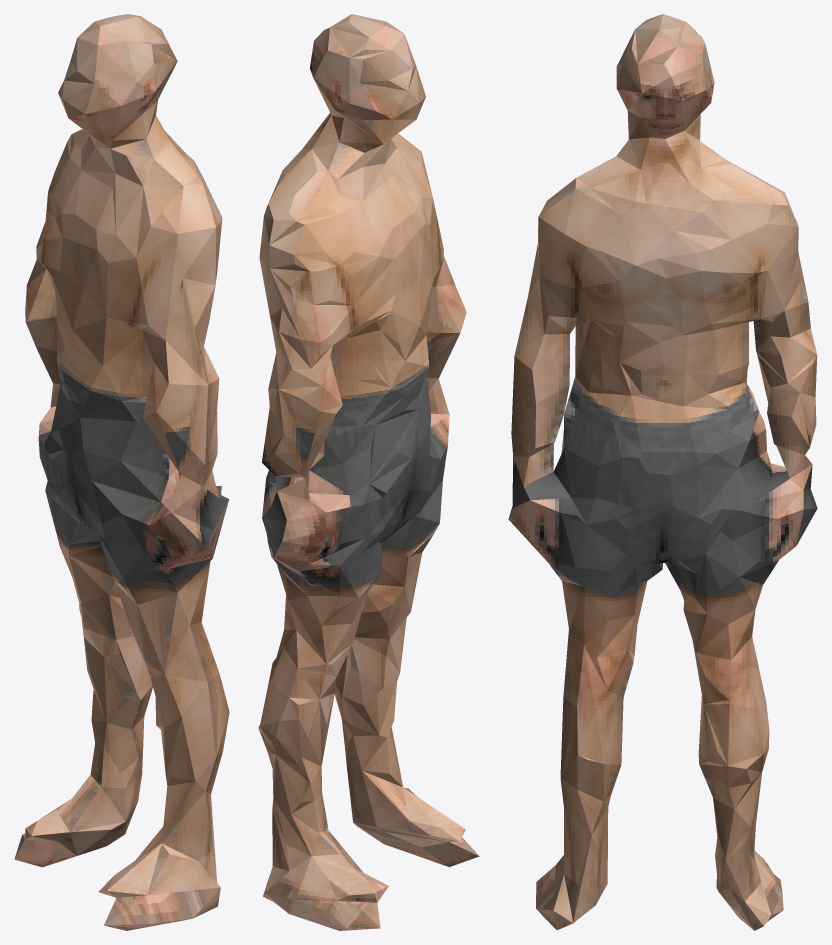
Rendered from personaje.base.cuerpo_comun_4.glb.
The picture shows the model from 3 angles, left to right: view 1: azimuth 30°, elevation 25°; view 2: azimuth 150°, elevation 25°; view 3: azimuth 270°, elevation 25°; orthographic projection. The views are drawn at different scales.
Visible parts, largest first — view 1: personaje.base.cuerpo_comun_4; view 2: personaje.base.cuerpo_comun_4; view 3: personaje.base.cuerpo_comun_4.
Boxes of the visible parts, x1=… form: personaje.base.cuerpo_comun_4: x1=14, y1=14, x2=229, y2=930; personaje.base.cuerpo_comun_4: x1=258, y1=14, x2=479, y2=930; personaje.base.cuerpo_comun_4: x1=508, y1=14, x2=817, y2=930.
Bounding box in the file's own units: 0.29 × 1.7 × 0.5327.
1 material, 1 textured.
